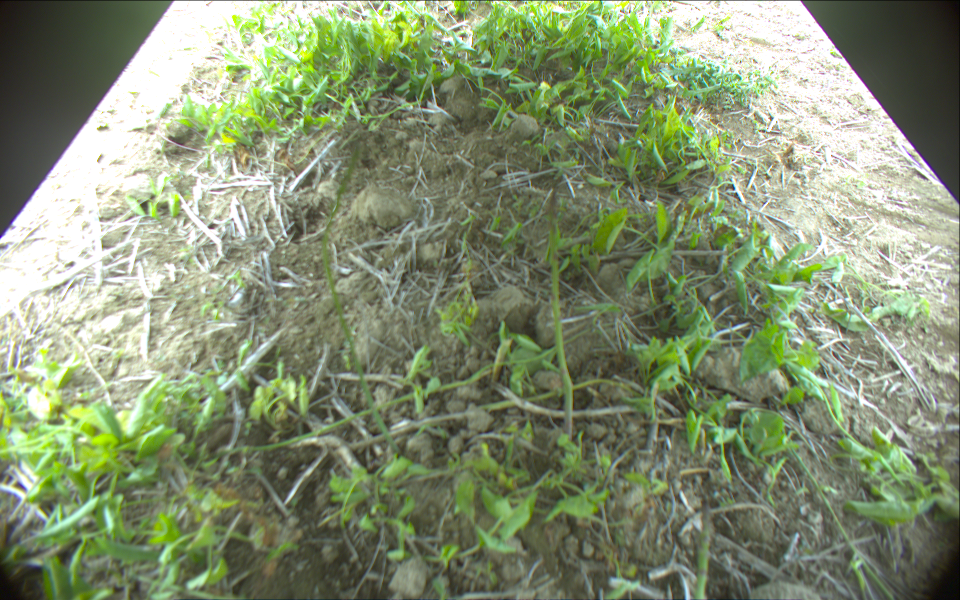aspa: (321, 137, 405, 459), (549, 184, 575, 436), (692, 495, 713, 600)
